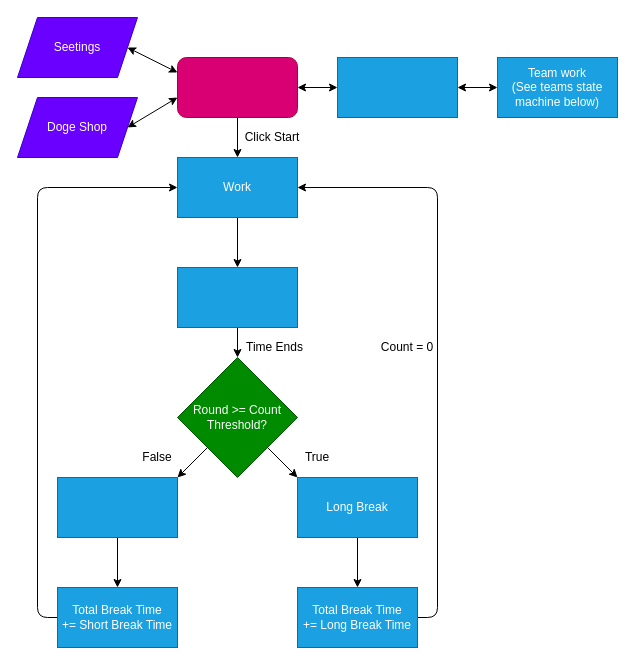
This 635x665 diagram has some shape labels left out. The centre of each missing label's shape, as x and y in pixels:
"Count += 1 Total Work Time += Work Time" goes at (237,297).
"Login (See login state machine below)" goes at (397,87).
"Main Page" goes at (237,87).
"Short Break" goes at (117,507).
